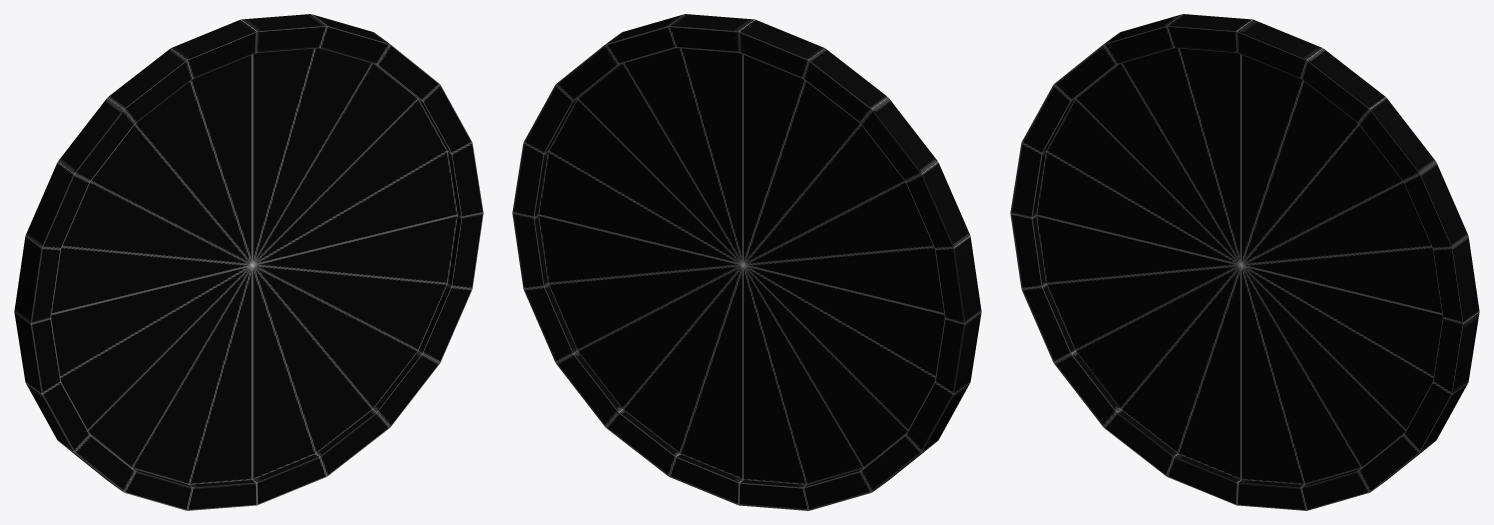
File: moneda.fbx
The picture shows the model from 3 angles, left to right: view 1: azimuth 30°, elevation 25°; view 2: azimuth 150°, elevation 25°; view 3: azimuth 330°, elevation 25°; orthographic projection.
Parts seen in each view (by area): view 1: pCylinder1; view 2: pCylinder1; view 3: pCylinder1.
Boxes of the visible parts, x1,y1,x2,y2 form: pCylinder1: [14, 14, 483, 510]; pCylinder1: [512, 14, 981, 510]; pCylinder1: [1010, 14, 1479, 510].
Bounding box in the file's own units: 3.59 × 3.59 × 0.223.
